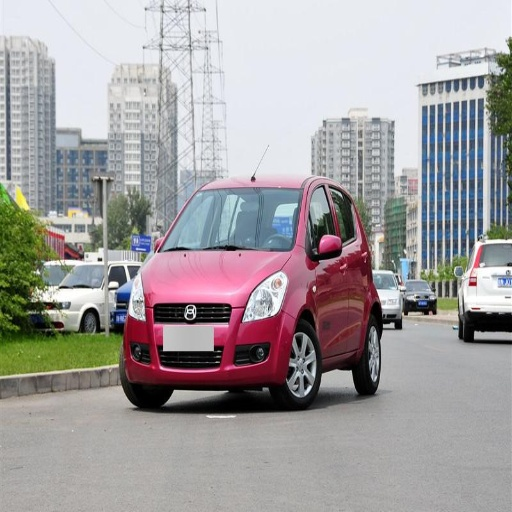front_bumper: (125, 301, 294, 387)
front_glass: (157, 188, 300, 251)
front_left_door: (306, 181, 347, 355)
